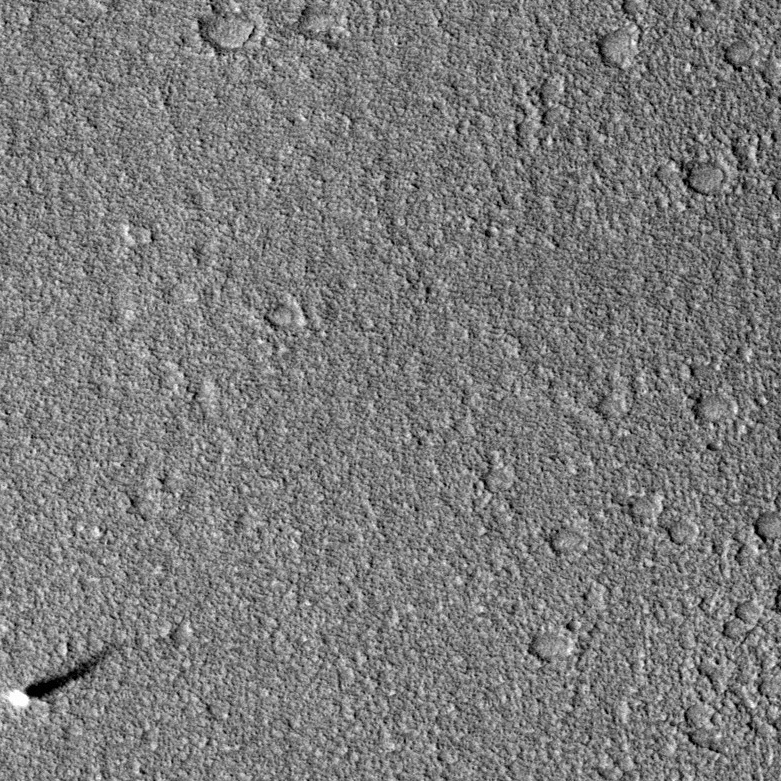dust_devil: (1, 634, 126, 715)
